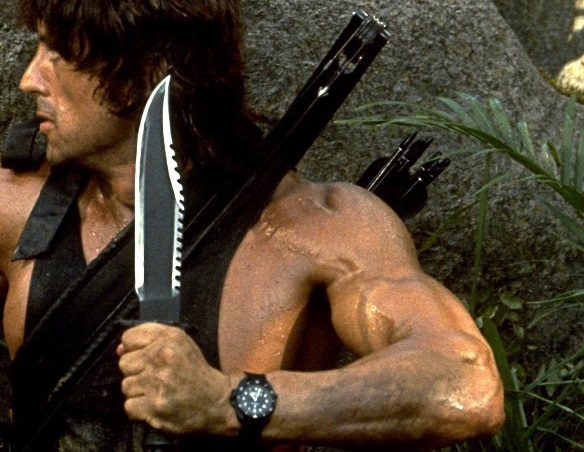knife: (111, 68, 196, 425)
